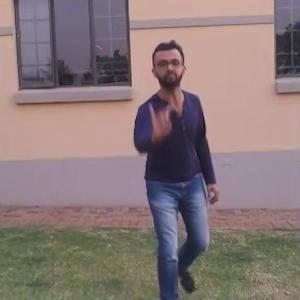takeoff-hand: (139, 90, 176, 141)
